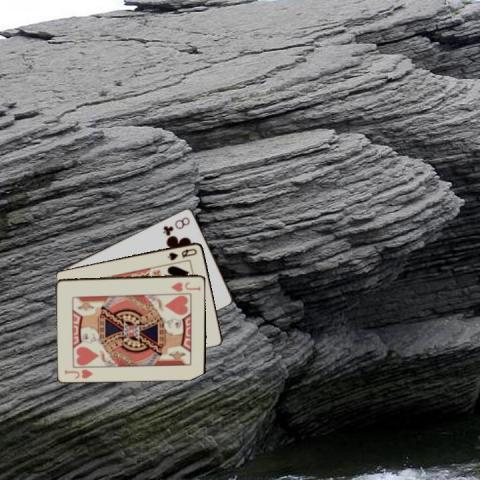8c: (160, 213, 191, 236)
Jh: (62, 366, 95, 380), (169, 279, 202, 291)
Qs: (164, 245, 198, 262)
